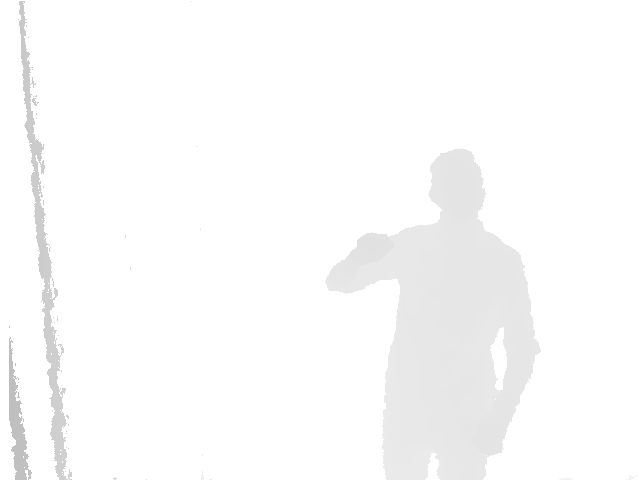head: (427, 148, 485, 219)
person: (325, 149, 541, 480)
